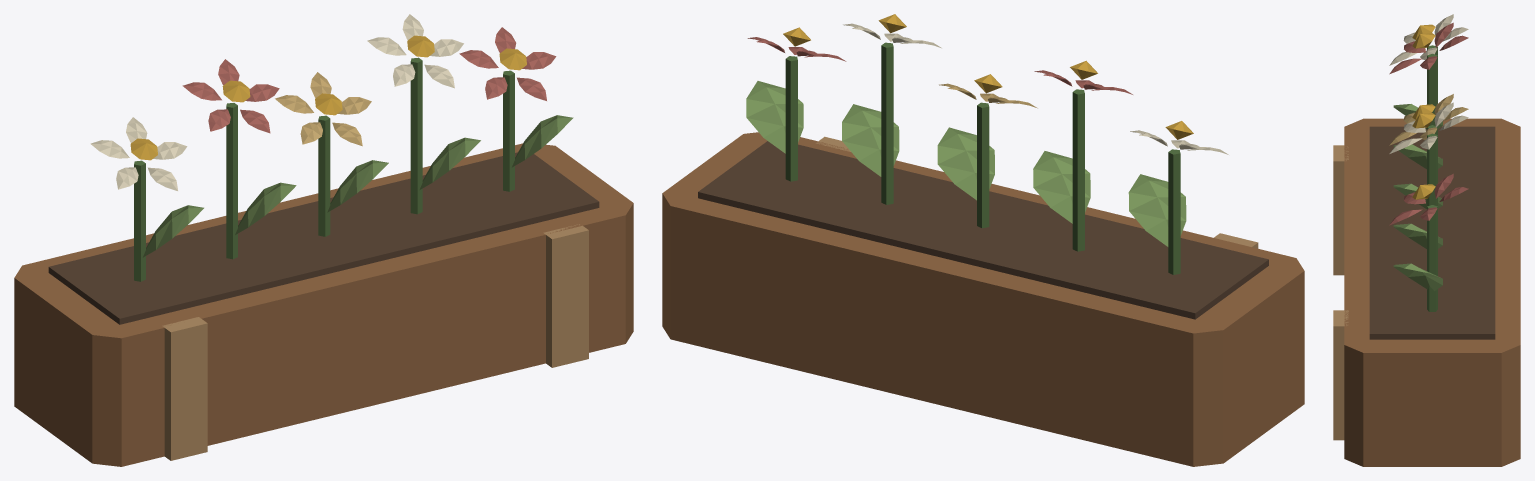
File: window_flower_box.glb
The picture shows the model from 3 angles, left to right: view 1: azimuth 30°, elevation 25°; view 2: azimuth 150°, elevation 25°; view 3: azimuth 270°, elevation 25°; orthographic projection. The views are drawn at different scales.
Parts seen in each view (by area): view 1: geometry; view 2: geometry; view 3: geometry.
Boxes of the visible parts, x1,y1,x2,y2 form: geometry: (14,14,633,466); geometry: (662,14,1304,466); geometry: (1333,14,1520,466).
Size of the model in its own units: 0.88 by 0.4879 by 0.2975.
